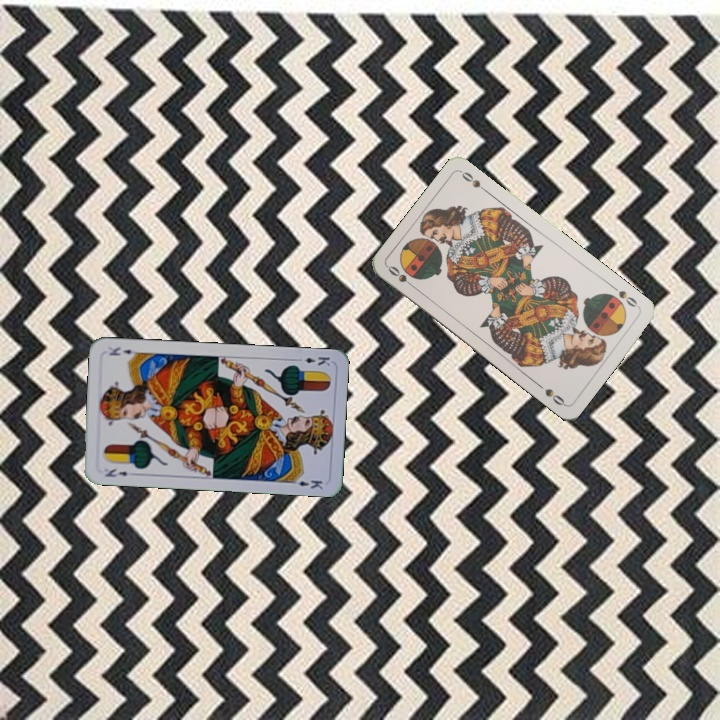EK: (292, 353, 332, 368), (101, 464, 130, 480)
SO: (384, 262, 419, 292), (608, 282, 643, 311)
